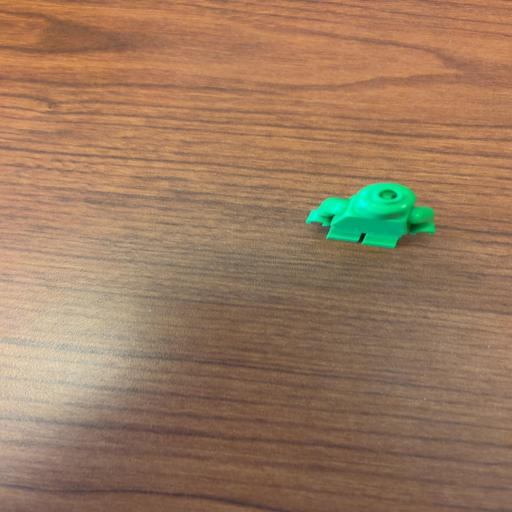UnoQ-minifig-detector: (307, 183, 435, 248)
